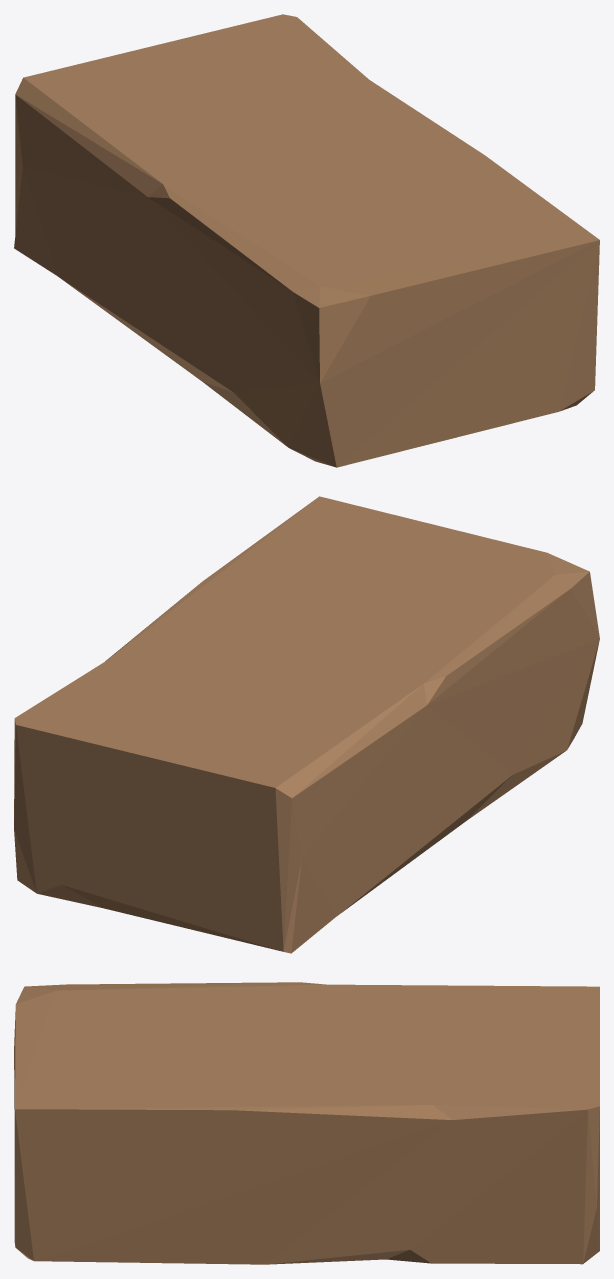
File: SM_large_brick_01.fbx
3 renders of one model, top to bottom at view 1: azimuth 30°, elevation 25°; view 2: azimuth 150°, elevation 25°; view 3: azimuth 270°, elevation 25°, orthographic. The views are drawn at different scales.
Visible parts, largest first — view 1: large_brick_01; view 2: large_brick_01; view 3: large_brick_01.
Boxes of the visible parts, x1=… form: large_brick_01: x1=14, y1=14, x2=599, y2=467; large_brick_01: x1=14, y1=496, x2=599, y2=953; large_brick_01: x1=14, y1=982, x2=599, y2=1264.
Bounding box in the file's own units: 142 × 80.5 × 272.
